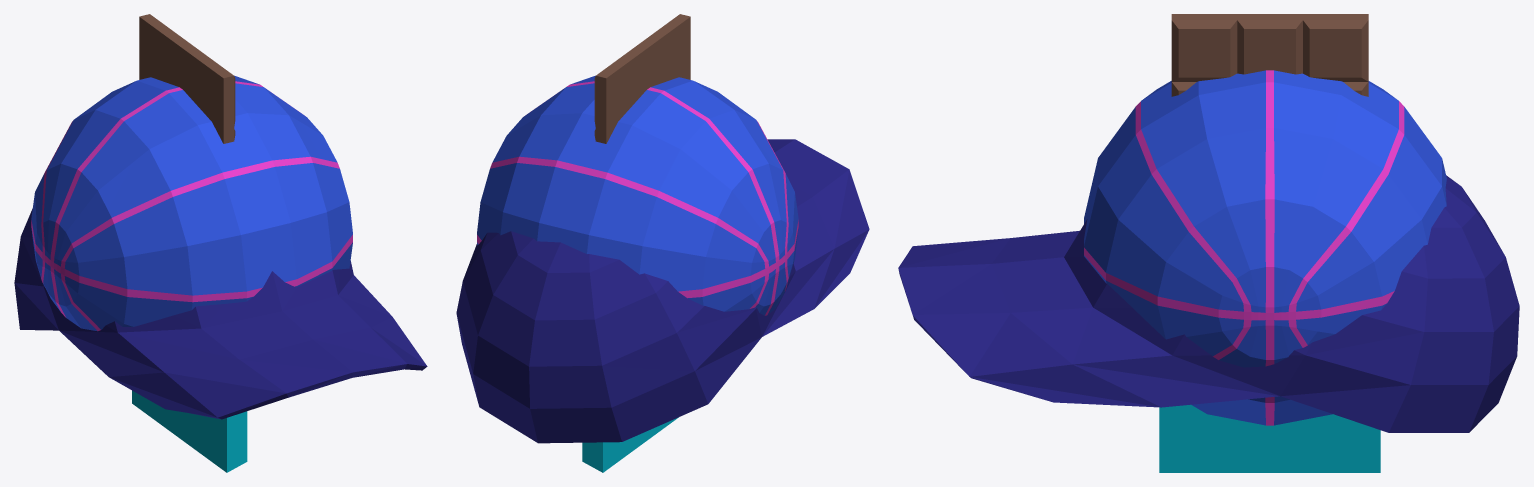
File: models.glb
3 views of the same model, side by side, from view 1: azimuth 30°, elevation 25°; view 2: azimuth 150°, elevation 25°; view 3: azimuth 270°, elevation 25° (orthographic). The views are drawn at different scales.
Visible parts, largest first — view 1: basketball, cap, chocolate; view 2: cap, basketball, chocolate; view 3: basketball, cap, chocolate.
Boxes of the visible parts, x1,y1,x2,y2 form: basketball: (31, 75, 352, 331); cap: (14, 209, 427, 419); chocolate: (132, 14, 247, 472); cap: (456, 139, 869, 443); basketball: (477, 75, 798, 315); chocolate: (582, 14, 690, 472); basketball: (1084, 70, 1446, 425); cap: (898, 175, 1519, 432); chocolate: (1159, 14, 1380, 472).
Size of the model in its own units: 1.11 by 1.47 by 1.82.
